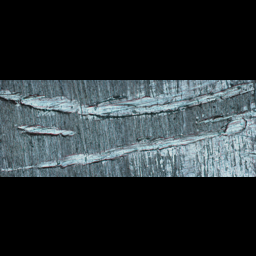d: (1, 102, 255, 175), (0, 79, 255, 119), (15, 121, 78, 139)
